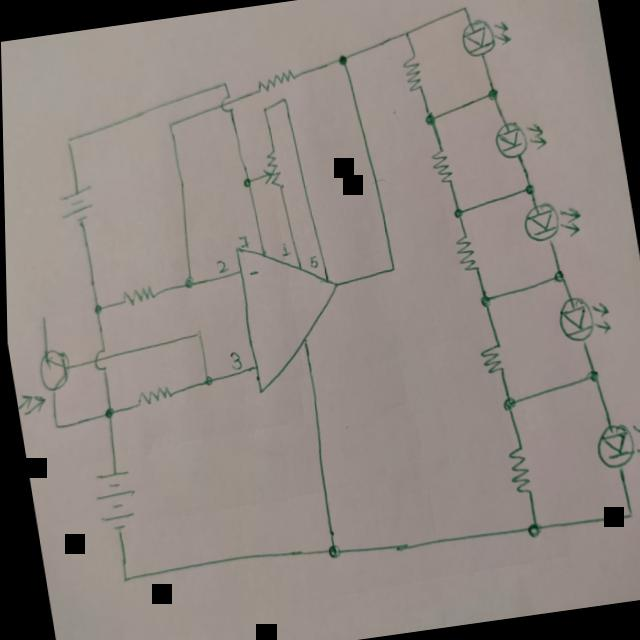crossover: (90, 346, 109, 374), (218, 92, 235, 115)
diode: (589, 414, 640, 478), (517, 195, 582, 245), (553, 290, 612, 345), (457, 12, 515, 62), (491, 115, 549, 162)
junction: (497, 390, 519, 415), (522, 516, 542, 538), (322, 540, 342, 560), (581, 364, 600, 385), (549, 264, 565, 288), (477, 289, 494, 311), (420, 109, 438, 129), (335, 50, 351, 72), (98, 402, 115, 422), (483, 84, 500, 104), (180, 272, 196, 292), (199, 370, 212, 391), (621, 504, 636, 522), (90, 301, 106, 317), (450, 203, 464, 221), (239, 174, 253, 192), (522, 180, 536, 196), (385, 260, 397, 276), (400, 27, 413, 40), (117, 572, 129, 586), (460, 1, 471, 16), (192, 326, 203, 340), (50, 419, 60, 432), (64, 136, 74, 148), (280, 94, 289, 106), (220, 78, 228, 90), (166, 120, 174, 131), (261, 104, 268, 114)
resistor: (502, 443, 532, 496), (254, 148, 283, 193), (451, 230, 478, 274), (475, 341, 507, 376), (400, 52, 426, 95), (428, 145, 454, 185), (252, 69, 295, 91), (133, 385, 173, 406), (117, 284, 155, 306)
source: (90, 464, 138, 536), (57, 186, 96, 228)
terminal: (37, 312, 49, 324)
text: (226, 349, 241, 371), (214, 256, 229, 274), (277, 240, 292, 258), (237, 233, 250, 250), (306, 253, 319, 270), (246, 269, 258, 276)
transistor: (10, 346, 77, 416)
